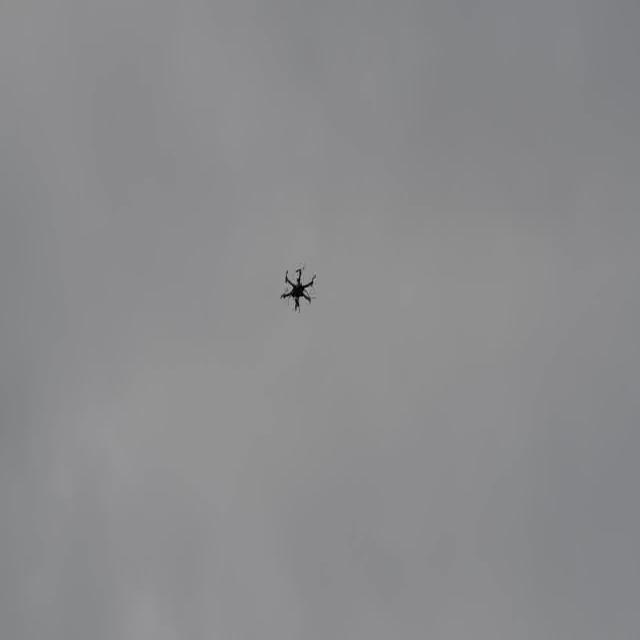drone: (278, 259, 318, 315)
